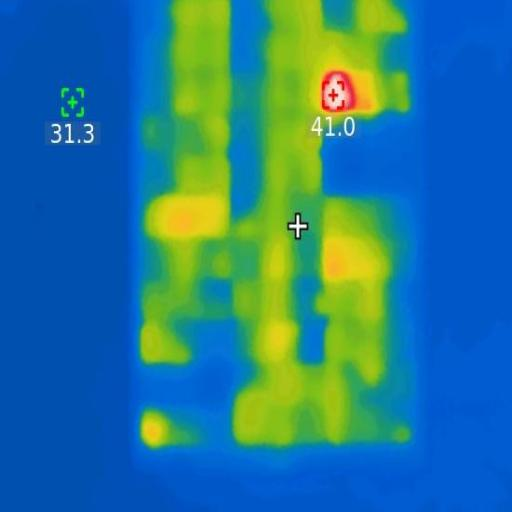hotspot: (318, 70, 352, 113)
